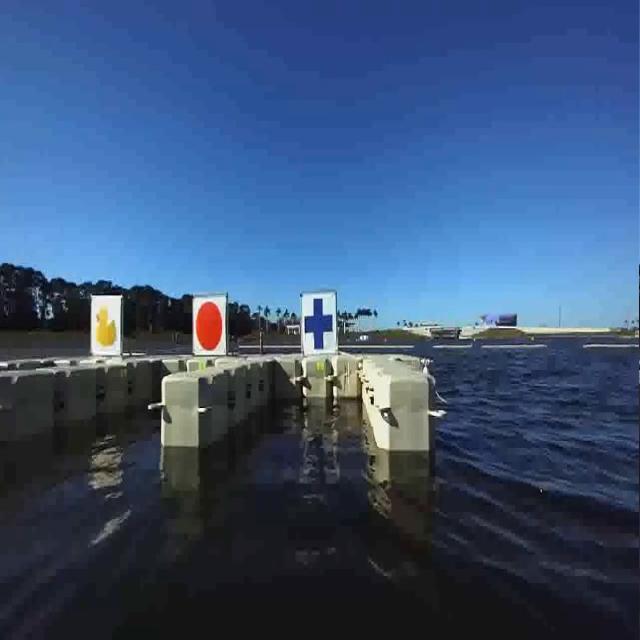blue-cross: (299, 288, 339, 359)
red-dot: (190, 294, 230, 360)
yellow-duck: (88, 295, 125, 359)
